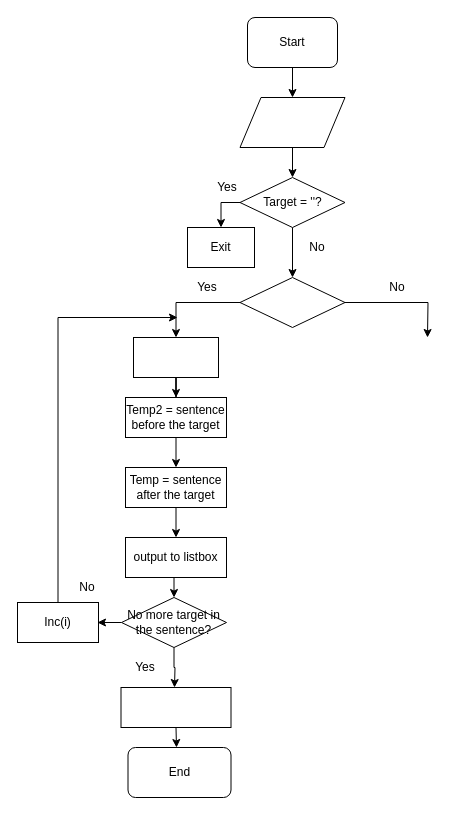
Image size: 454x815. Some labels were removed from this diagram. Here are the shapes that lost their labels. From the top down, the box of each, then its label:
(239, 96, 345, 148): Input the word you want to count
(239, 276, 345, 328): No selection in lisbox2?
(132, 336, 218, 378): Temp = listbox2.items[i]
(120, 686, 231, 728): output the word count of the target
